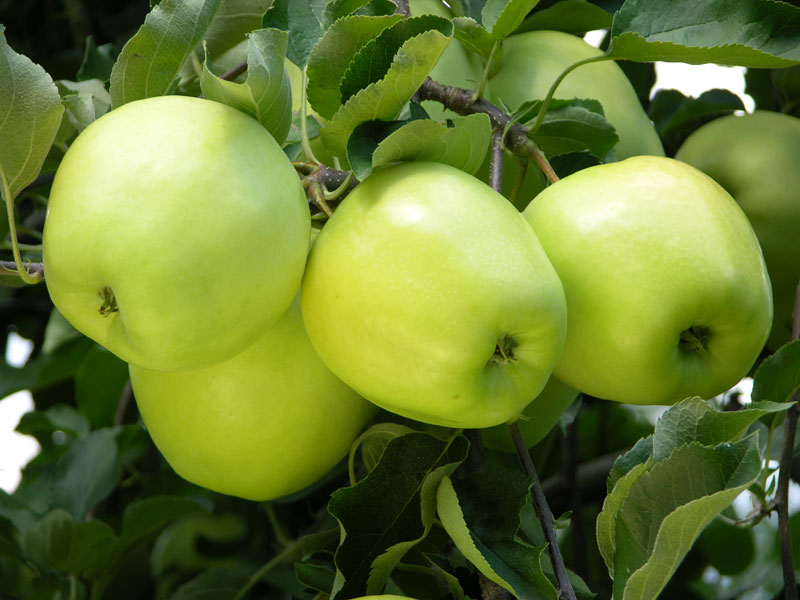elma: (42, 96, 311, 372), (304, 161, 567, 427), (525, 149, 771, 403)
